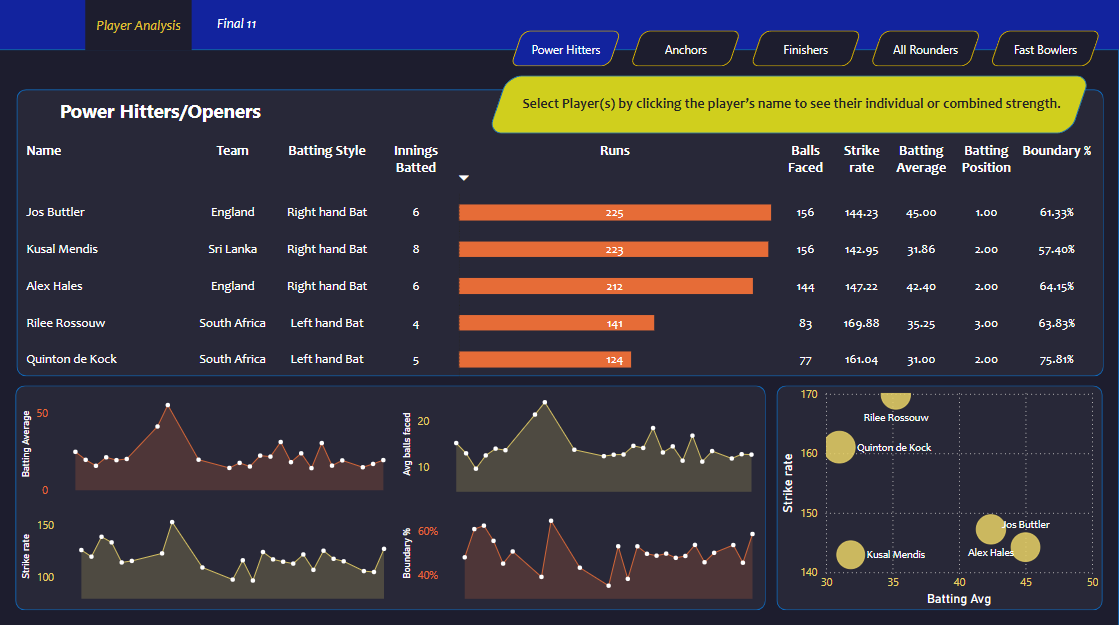

This screenshot's page, from the dashboard's own definition file:
{"tool":"powerbi","page":{"name":"Power Hitters","canvas":[1280,720],"ordinal":0},"visuals":[{"type":"shape","box":[0,57.9,1280,659.9],"z":0},{"type":"shape","box":[19.3,105,1242.6,328.2],"z":1000},{"type":"shape","box":[558.6,88.1,688.9,66.4],"z":2000},{"type":"card","fields":{"Values":["Key_measures.Strike rate"]},"box":[742,78.4,148.4,83.2],"z":3000},{"type":"card","fields":{"Values":["Key_measures.Batting Avg"]},"box":[963.9,78.4,137.5,80.8],"z":4000},{"type":"card","fields":{"Values":["Key_measures.Boundary %"]},"box":[862.6,78.4,132.7,82],"z":5000},{"type":"card","fields":{"Values":["Key_measures.avg balls faced"]},"box":[1081,78.4,124.3,82],"z":6000},{"type":"textbox","box":[63.9,108,261.8,49.5],"z":7000},{"type":"tableEx","fields":{"Values":["player_info.name","player_info.team","player_info.battingStyle","Key_measures.Total Innings Batted","Key_measures.Total Runs","Key_measures.Balls Faced","Key_measures.Strike rate","Key_measures.Batting Avg","Key_measures.Batting Position","Key_measures.Boundary %"]},"box":[19.3,147.2,1242.6,295.6],"z":8000},{"type":"shape","box":[887.9,442.8,372.8,257],"z":9000},{"type":"shape","box":[18.1,442.8,857.8,257],"z":10000},{"type":"scatterChart","fields":{"Category":["player_info.name"],"X":["Key_measures.Batting Avg"],"Y":["Key_measures.Strike rate"],"Size":["Key_measures.Boundary %"]},"box":[887.9,437.9,372.8,261.8],"z":11000},{"type":"areaChart","fields":{"Category":["match_summary.matchDate.Variation.Date Hierarchy.Day"],"Y":["Key_measures.Batting Avg"]},"box":[19.3,442.8,481.4,133.9],"z":12000},{"type":"areaChart","fields":{"Category":["match_summary.matchDate.Variation.Date Hierarchy.Day"],"Y":["Key_measures.avg balls faced"]},"box":[456,442.8,464.5,126.7],"z":13000},{"type":"areaChart","fields":{"Category":["match_summary.matchDate.Variation.Date Hierarchy.Day"],"Y":["Key_measures.Strike rate"]},"box":[19.3,576.7,481.4,114.6],"z":14000},{"type":"areaChart","fields":{"Category":["match_summary.matchDate.Variation.Date Hierarchy.Day"],"Y":["Key_measures.Boundary %"]},"box":[456,569.4,464.5,121.9],"z":15000},{"type":"actionButton","box":[98.9,0,121.9,60.3],"z":16000},{"type":"actionButton","box":[220.8,0,100.1,57.9],"z":17000},{"type":"shape","box":[587.5,88.1,154.4,66.4],"z":18000},{"type":"pageNavigator","box":[583.9,37.4,676.8,41],"z":19000},{"type":"shape","box":[564.6,86.9,682.8,66.4],"z":20000}]}

Visuals, with their boxes in screenshot pixels (x1, y1, x2, y2), scaled from the page's 1280x720 canvas onto the 1119x625 screenshot:
shape: box=[0, 50, 1118, 623]
shape: box=[17, 91, 1103, 376]
shape: box=[488, 76, 1091, 134]
card - Key_measures.Strike rate: box=[649, 68, 778, 140]
card - Key_measures.Batting Avg: box=[843, 68, 963, 138]
card - Key_measures.Boundary %: box=[754, 68, 870, 139]
card - Key_measures.avg balls faced: box=[945, 68, 1054, 139]
textbox: box=[56, 94, 285, 137]
tableEx - player_info.name x player_info.team: box=[17, 128, 1103, 384]
shape: box=[776, 384, 1102, 607]
shape: box=[16, 384, 766, 607]
scatterChart - player_info.name x Key_measures.Batting Avg: box=[776, 380, 1102, 607]
areaChart - match_summary.matchDate.Variation.Date Hierarchy.Day x Key_measures.Batting Avg: box=[17, 384, 438, 501]
areaChart - match_summary.matchDate.Variation.Date Hierarchy.Day x Key_measures.avg balls faced: box=[399, 384, 805, 494]
areaChart - match_summary.matchDate.Variation.Date Hierarchy.Day x Key_measures.Strike rate: box=[17, 501, 438, 600]
areaChart - match_summary.matchDate.Variation.Date Hierarchy.Day x Key_measures.Boundary %: box=[399, 494, 805, 600]
actionButton: box=[86, 0, 193, 52]
actionButton: box=[193, 0, 281, 50]
shape: box=[514, 76, 649, 134]
pageNavigator: box=[510, 32, 1102, 68]
shape: box=[494, 75, 1091, 133]
